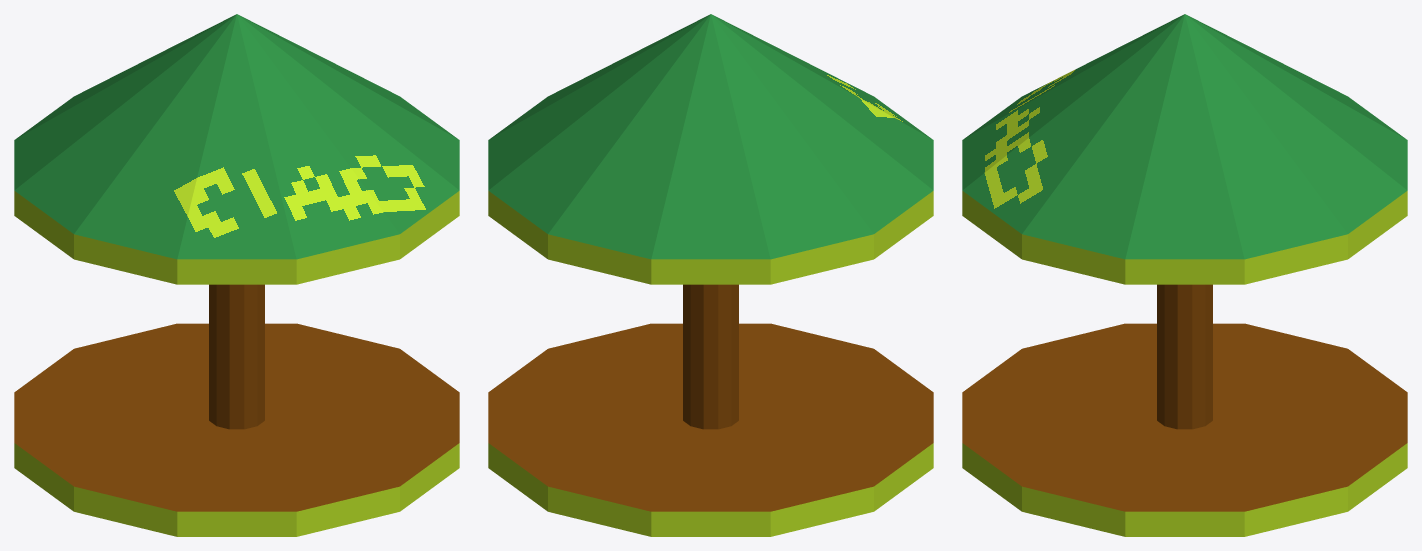
Rendered from giostra.gltf.
The picture shows the model from 3 angles, left to right: view 1: azimuth 30°, elevation 25°; view 2: azimuth 150°, elevation 25°; view 3: azimuth 270°, elevation 25°; orthographic projection.
Visible parts, largest first — view 1: cylinder (×3), cone; view 2: cylinder (×3), cone; view 3: cylinder (×3), cone.
Boxes of the visible parts, box(x1,y1,x2,y2) form: cylinder (×3): box(14, 191, 459, 536); cone: box(14, 14, 459, 259); cylinder (×3): box(488, 191, 933, 536); cone: box(488, 14, 933, 259); cylinder (×3): box(962, 191, 1407, 536); cone: box(962, 14, 1407, 259).
Bounding box in the file's own units: 1 × 1.06 × 1.
Materials: 1 (1 with a texture image).
